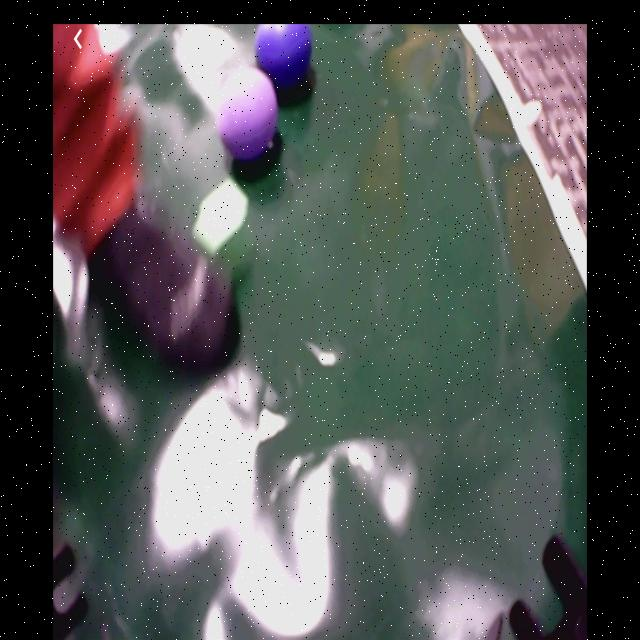ball: (219, 69, 278, 157), (256, 27, 315, 87)
